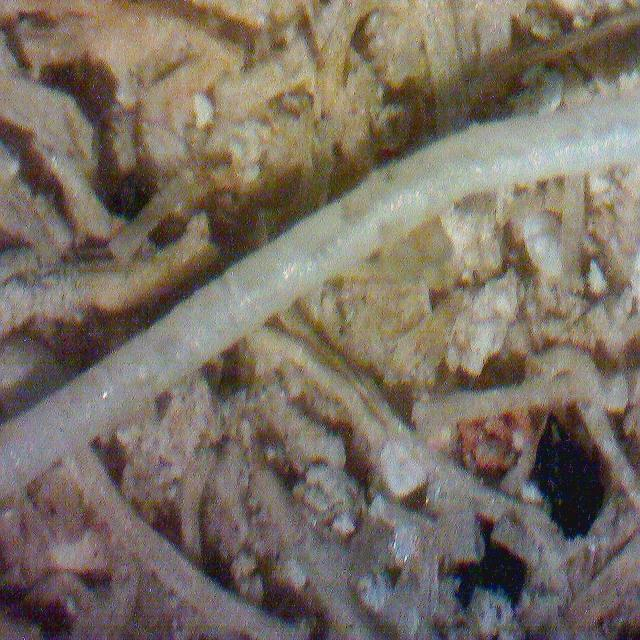microplastic: (0, 96, 640, 497)
